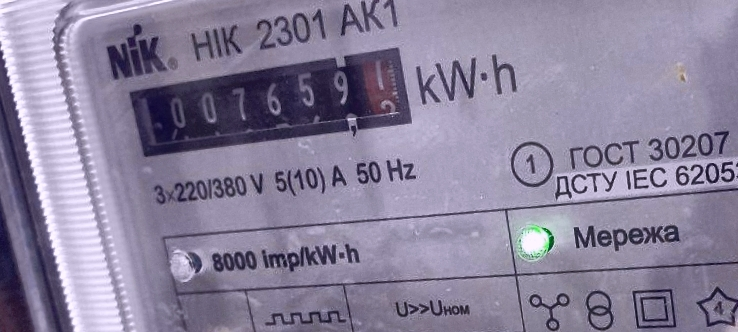0: (196, 86, 221, 128), (165, 92, 190, 132)
1: (366, 55, 390, 94)
5: (292, 68, 319, 111)
6: (259, 77, 286, 120)
7: (226, 82, 253, 123)
9: (328, 66, 354, 108)
screen: (118, 40, 419, 169)
